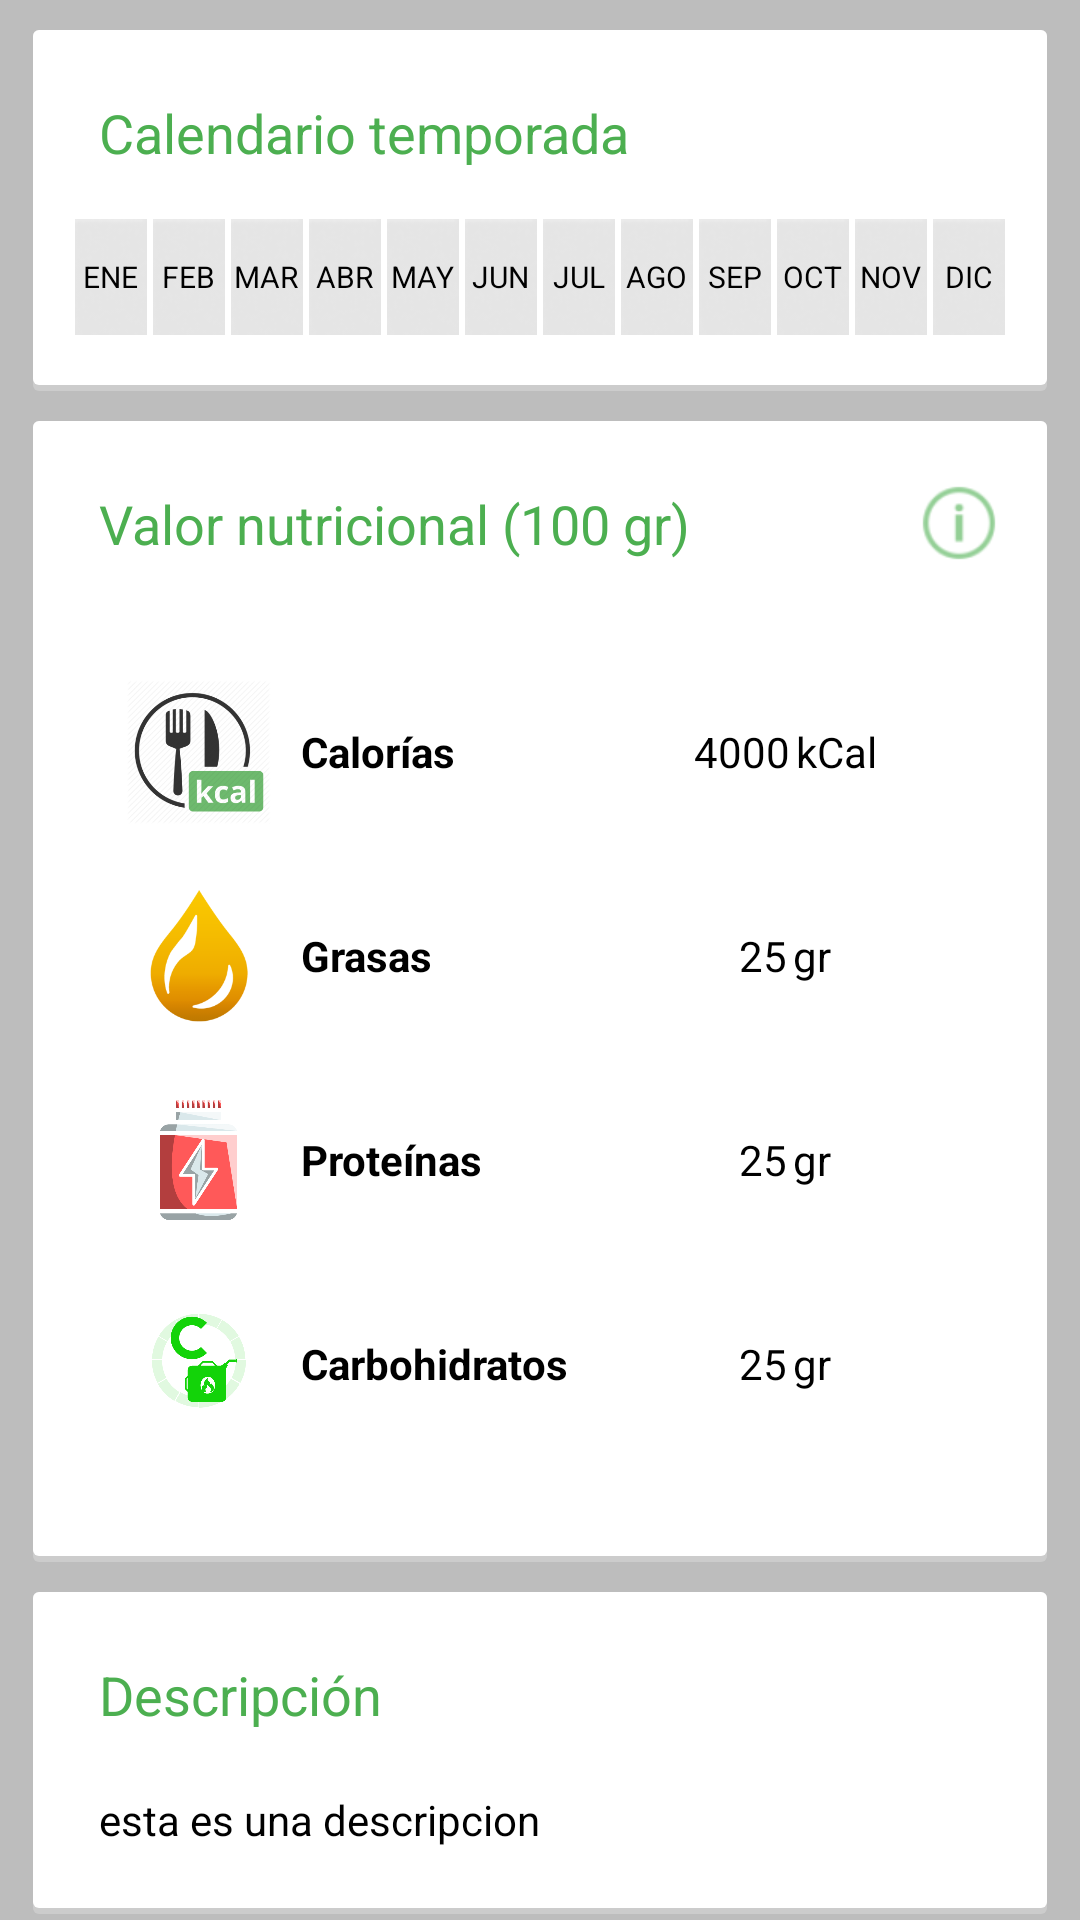

Locate icon controls on the screen. Image size 1080*1920, boxes as (x1, y1, x2, y2).
carbohydrates: (152, 1314, 246, 1408)
fat: (150, 890, 248, 1022)
info: (923, 487, 995, 559)
protein: (160, 1100, 237, 1220)
